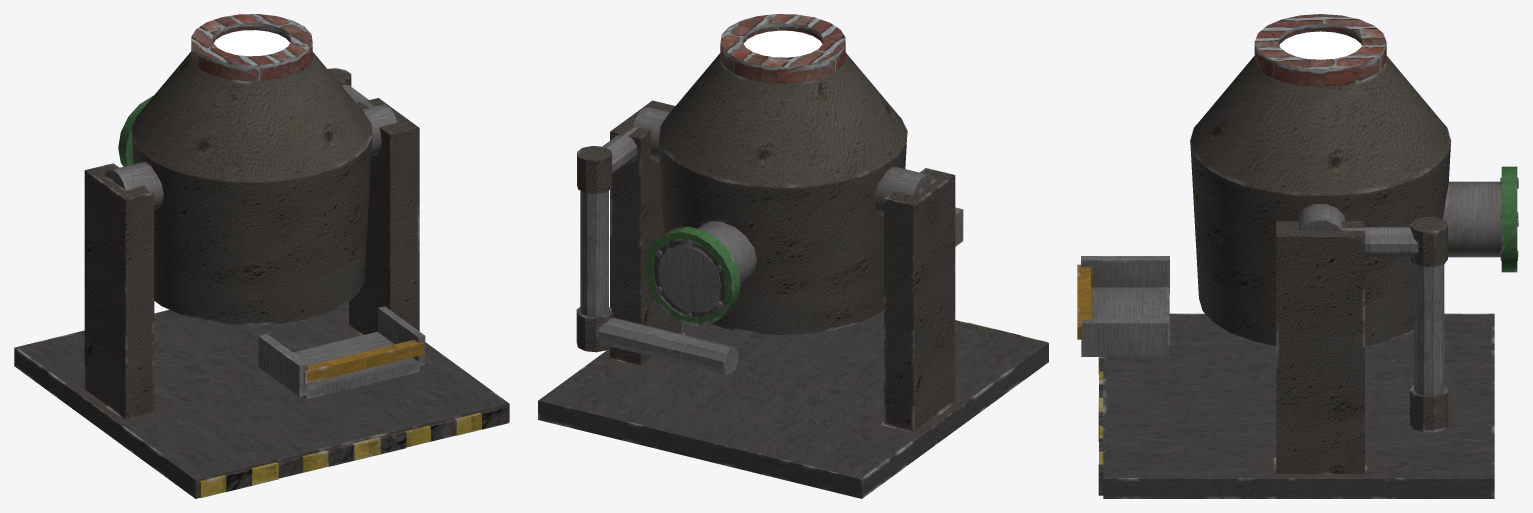
File: feSteelConverter_HD.fbx
The picture shows the model from 3 angles, left to right: view 1: azimuth 30°, elevation 25°; view 2: azimuth 150°, elevation 25°; view 3: azimuth 270°, elevation 25°; orthographic projection. The views are drawn at different scales.
Parts seen in each view (by area): view 1: feSteelConverter_Base; view 2: feSteelConverter_Base; view 3: feSteelConverter_Base.
Part boxes in pixels (bbox=[...]): feSteelConverter_Base: bbox=[14, 14, 509, 498]; feSteelConverter_Base: bbox=[538, 14, 1048, 498]; feSteelConverter_Base: bbox=[1077, 14, 1518, 498].
Bounding box in the file's own units: 0.9012 × 0.9524 × 1.02.
Materials: 2 (1 with a texture image).
